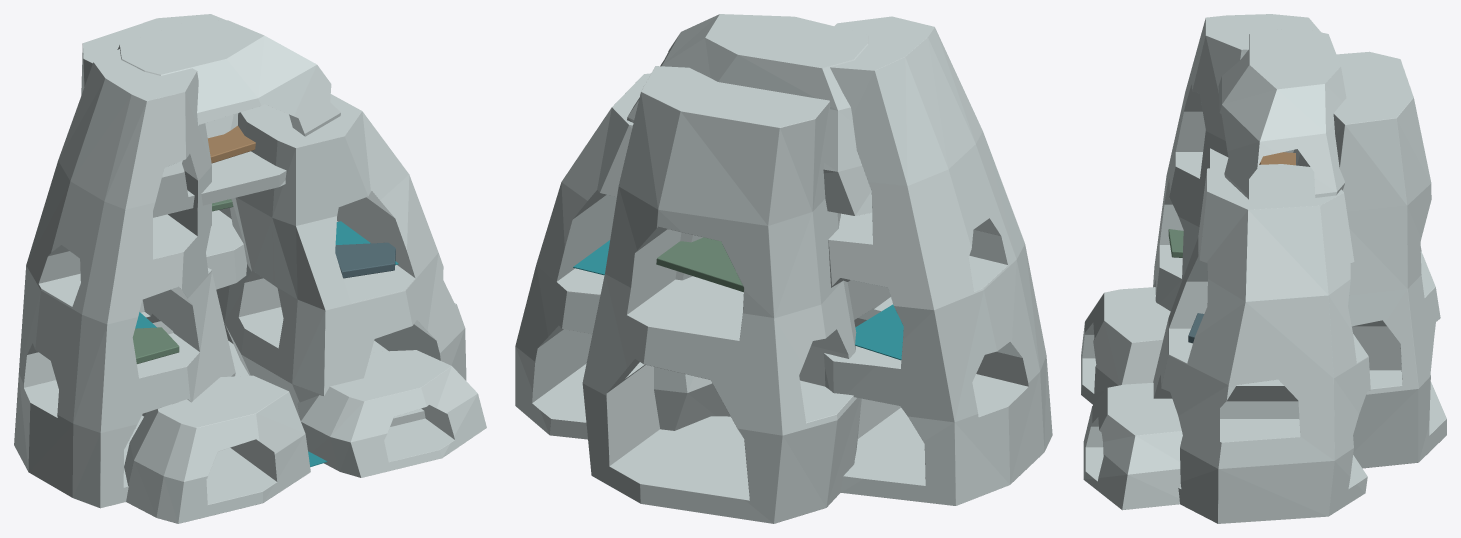
3 views of the same model, side by side, from view 1: azimuth 30°, elevation 25°; view 2: azimuth 150°, elevation 25°; view 3: azimuth 270°, elevation 25° (orthographic). The views are drawn at different scales.
Visible parts, largest first — view 1: C01_WEST_DEEP__inhabited_land, C02_EAST_TIDELAND__inhabited_land, C05_INNER_SEED__inhabited_land, C04_CONFLUENCE_SKY__inhabited_land, C06_TIDAL_APPROACH__inhabited_land, C03_REAR_ARCHIVE__inhabited_land, East collective ground, West suspended cultivation, High confluence common; view 2: C03_REAR_ARCHIVE__inhabited_land, C01_WEST_DEEP__inhabited_land, C02_EAST_TIDELAND__inhabited_land, C04_CONFLUENCE_SKY__inhabited_land, Rear deep cultivation, Upper tidal world, East inner sea; view 3: C02_EAST_TIDELAND__inhabited_land, C03_REAR_ARCHIVE__inhabited_land, C04_CONFLUENCE_SKY__inhabited_land, C01_WEST_DEEP__inhabited_land, C06_TIDAL_APPROACH__inhabited_land, C05_INNER_SEED__inhabited_land.
Part boxes in pixels (bbox=[...]): C01_WEST_DEEP__inhabited_land: bbox=[14, 49, 235, 508]; C02_EAST_TIDELAND__inhabited_land: bbox=[224, 94, 466, 426]; C05_INNER_SEED__inhabited_land: bbox=[124, 375, 310, 523]; C04_CONFLUENCE_SKY__inhabited_land: bbox=[117, 20, 340, 217]; C06_TIDAL_APPROACH__inhabited_land: bbox=[297, 350, 486, 477]; C03_REAR_ARCHIVE__inhabited_land: bbox=[81, 14, 248, 376]; East collective ground: bbox=[335, 242, 395, 278]; West suspended cultivation: bbox=[132, 327, 179, 363]; High confluence common: bbox=[207, 125, 255, 163]; C03_REAR_ARCHIVE__inhabited_land: bbox=[582, 66, 861, 523]; C01_WEST_DEEP__inhabited_land: bbox=[823, 16, 1052, 505]; C02_EAST_TIDELAND__inhabited_land: bbox=[515, 73, 730, 439]; C04_CONFLUENCE_SKY__inhabited_land: bbox=[627, 14, 872, 215]; Rear deep cultivation: bbox=[656, 237, 743, 292]; Upper tidal world: bbox=[855, 304, 903, 360]; East inner sea: bbox=[573, 240, 609, 275]; C02_EAST_TIDELAND__inhabited_land: bbox=[1153, 164, 1370, 523]; C03_REAR_ARCHIVE__inhabited_land: bbox=[1293, 51, 1446, 468]; C04_CONFLUENCE_SKY__inhabited_land: bbox=[1210, 28, 1346, 199]; C01_WEST_DEEP__inhabited_land: bbox=[1153, 14, 1320, 311]; C06_TIDAL_APPROACH__inhabited_land: bbox=[1083, 382, 1182, 510]; C05_INNER_SEED__inhabited_land: bbox=[1081, 287, 1170, 404].
Bounding box in the file's own units: 5430 × 4560 × 4269.
